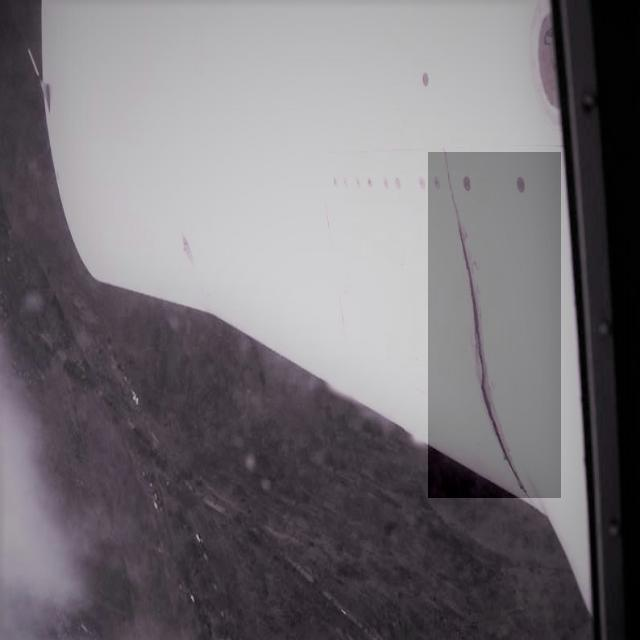crack: (429, 154, 562, 500)
